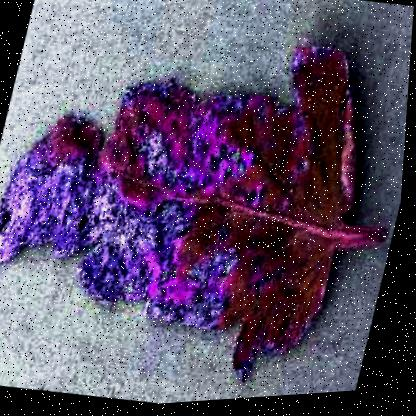BACTERIAL SPOT: (0, 0, 414, 415)
